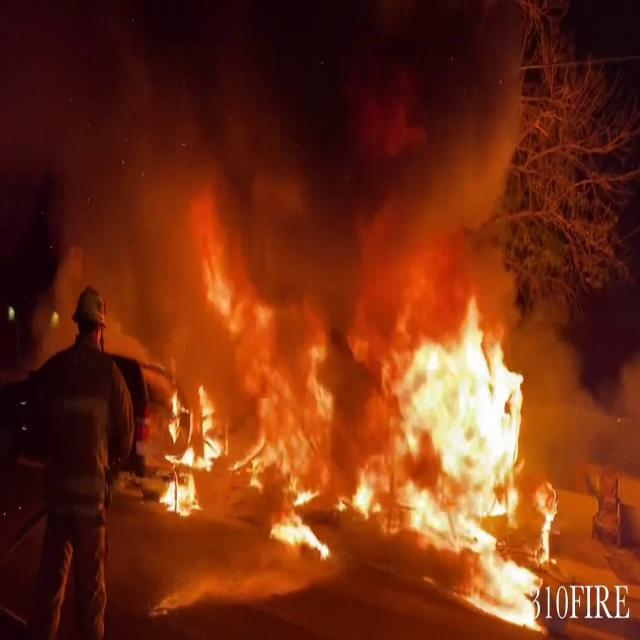Fire: (150, 242, 572, 626)
Smoke: (0, 0, 536, 285)
